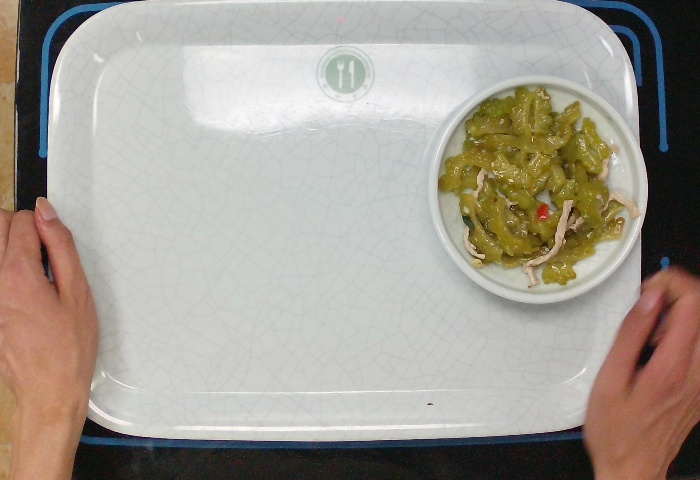JYsf-Xiao_Yuan_Pan: (426, 72, 650, 305)
